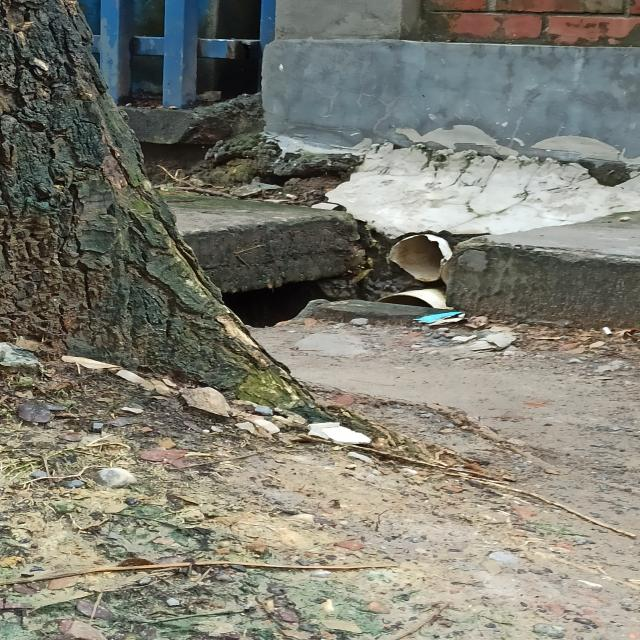drain_inlet: (185, 208, 509, 321)
